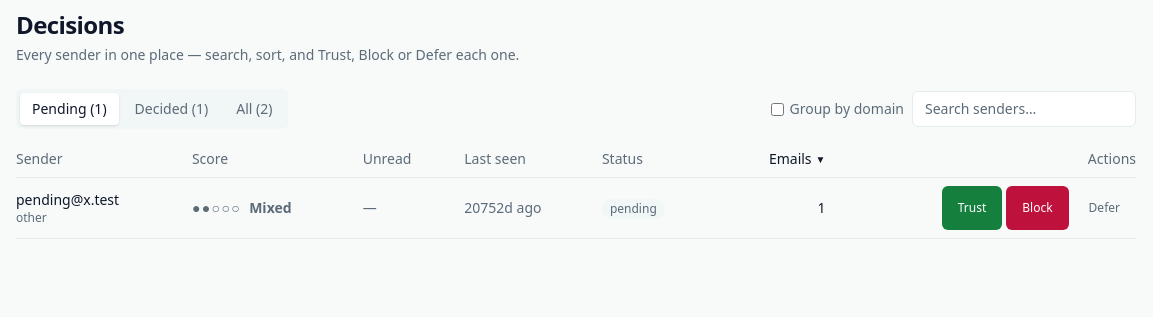
Test: Dashboard — decisions surface › splits senders across Pending·Decided·All tabs with counts in the labels
Expected: the text "pending@x.test" is shown, [16,190,119,209]
Expected: the text "trusted@y.test" is not shown
# Decided tab flips to the decided sender.
Step 1. Click the tab "decided (1)" → click(171, 109), box [123,93,220,125]
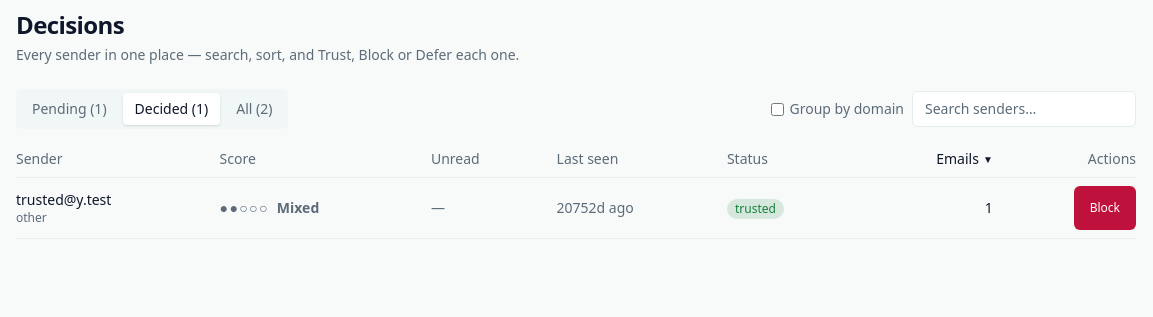
Now the text "trusted@y.test" is shown, box [16,190,111,209]
Now the text "pending@x.test" is gone
# All shows both.
Step 2. Click the tab "all (2)" → click(254, 109), box [224,93,284,125]
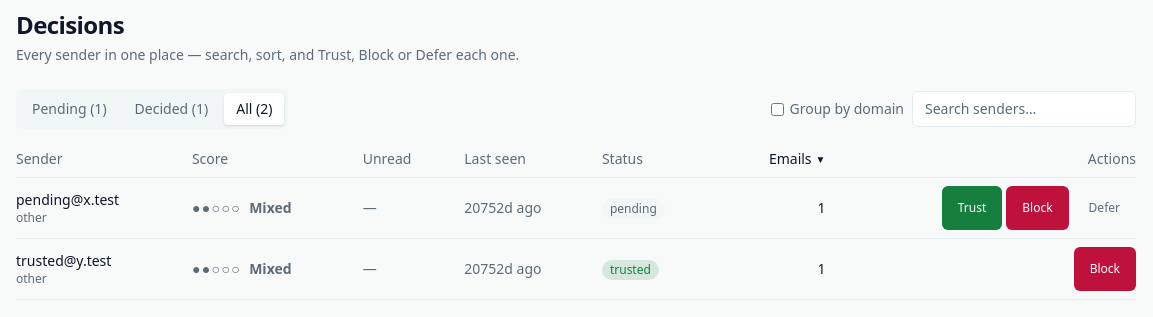
Now the text "trusted@y.test" is shown, box [16,251,111,270]
Now the text "pending@x.test" is shown, box [16,190,119,209]
